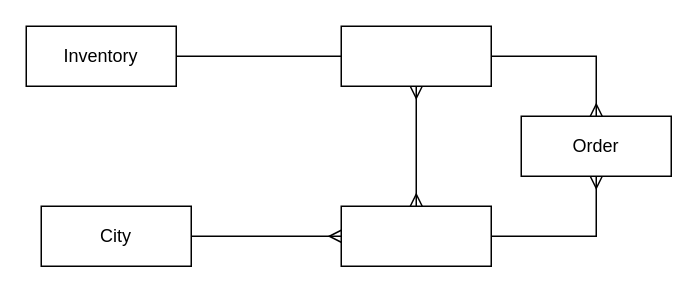
Image size: 698x293. Some labels were removed from this diagram. Here are the shapes that lost their labels. From the top down, the centre of each, then its label:
(x=415, y=55): Product
(x=415, y=235): Customer
